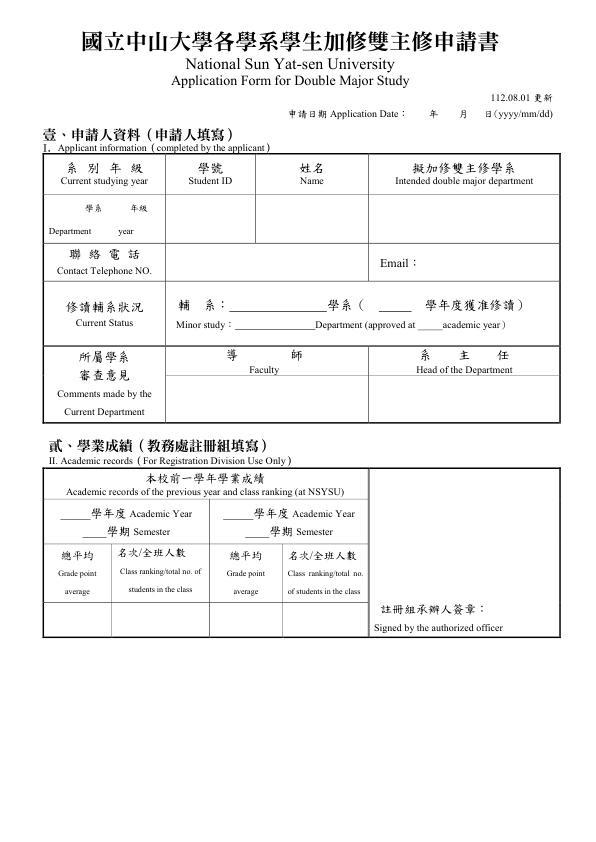table: (40, 152, 568, 430), (39, 466, 564, 640)
text: (79, 27, 503, 55), (168, 55, 413, 92), (44, 437, 295, 467), (35, 126, 275, 154), (288, 107, 558, 121), (490, 91, 560, 104)
